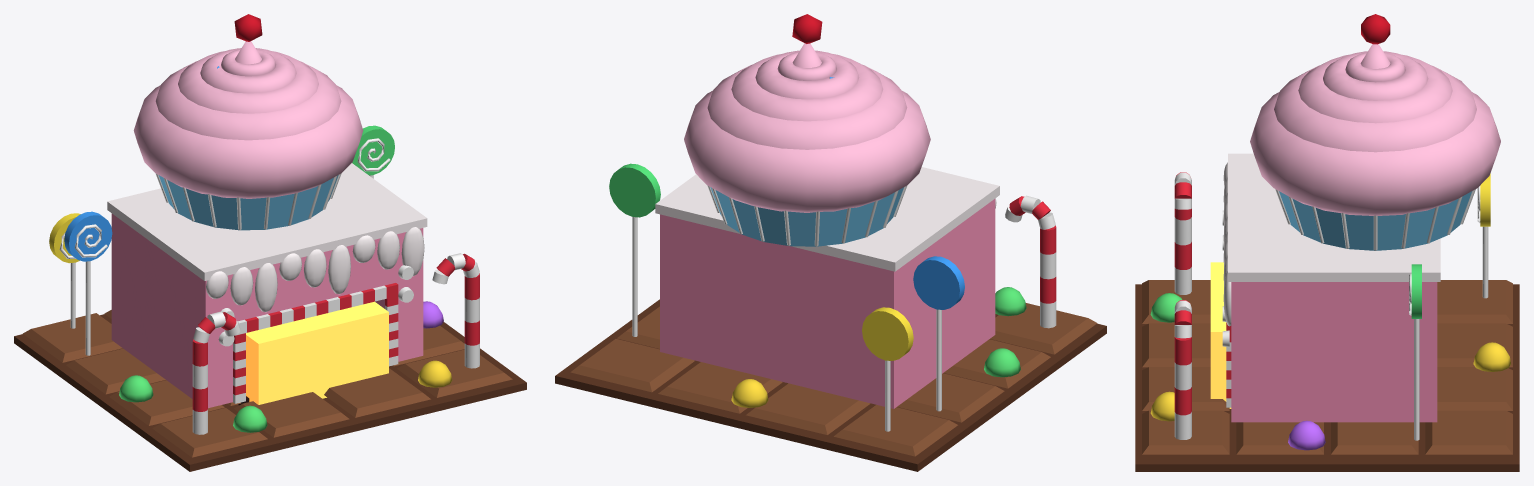
File: CandyOvenFurnace_Roblox.fbx
3 views of the same model, side by side, from view 1: azimuth 30°, elevation 25°; view 2: azimuth 150°, elevation 25°; view 3: azimuth 270°, elevation 25° (orthographic). The views are drawn at different scales.
Visible parts, largest first — view 1: Frosting, Icing, OvenPink, MilkChocolate, BurnZone, Chocolate, CandyWhite, CupcakeWrapper, CandyRed, SprinkleBlue, GumGreen, SprinkleGreen (+3 smaller); view 2: OvenPink, Frosting, MilkChocolate, Chocolate, Icing, CupcakeWrapper, CandyWhite, SprinkleBlue, SprinkleYellow, SprinkleGreen, GumGreen, CandyRed (+2 smaller); view 3: Frosting, OvenPink, MilkChocolate, Icing, Chocolate, CandyWhite, CupcakeWrapper, CandyRed, BurnZone, GumYellow, GumPurple, Cherry.001 (+3 smaller).
Boxes of the visible parts, x1,y1,x2,y2 form: Frosting: [133, 41, 363, 198]; Icing: [107, 163, 427, 312]; OvenPink: [111, 213, 423, 408]; MilkChocolate: [23, 310, 512, 457]; BurnZone: [246, 301, 388, 404]; Chocolate: [14, 314, 526, 471]; CandyWhite: [59, 138, 479, 434]; CupcakeWrapper: [158, 175, 338, 230]; CandyRed: [192, 253, 479, 411]; SprinkleBlue: [64, 66, 219, 261]; GumGreen: [119, 375, 267, 432]; SprinkleGreen: [352, 125, 394, 175]; OvenPink: [660, 199, 995, 408]; Frosting: [684, 43, 930, 212]; MilkChocolate: [570, 303, 1097, 456]; Chocolate: [555, 299, 1106, 471]; Icing: [655, 167, 999, 271]; CupcakeWrapper: [710, 187, 903, 246]; CandyWhite: [632, 185, 1056, 431]; SprinkleBlue: [829, 77, 964, 309]; SprinkleYellow: [862, 307, 913, 360]; SprinkleGreen: [609, 163, 660, 217]; GumGreen: [984, 287, 1026, 377]; CandyRed: [1009, 196, 1056, 303]; Frosting: [1250, 44, 1500, 215]; OvenPink: [1231, 282, 1437, 422]; MilkChocolate: [1142, 280, 1512, 454]; Icing: [1223, 153, 1440, 326]; Chocolate: [1135, 284, 1519, 471]; CandyWhite: [1174, 172, 1488, 440]; CupcakeWrapper: [1279, 191, 1472, 250]; CandyRed: [1174, 172, 1231, 415]; BurnZone: [1210, 262, 1231, 408]; GumYellow: [1150, 342, 1510, 421]; GumPurple: [1288, 420, 1325, 450]; Cherry.001: [1361, 14, 1390, 44].
Bounding box in the file's own units: 1240 × 1223 × 1120.
